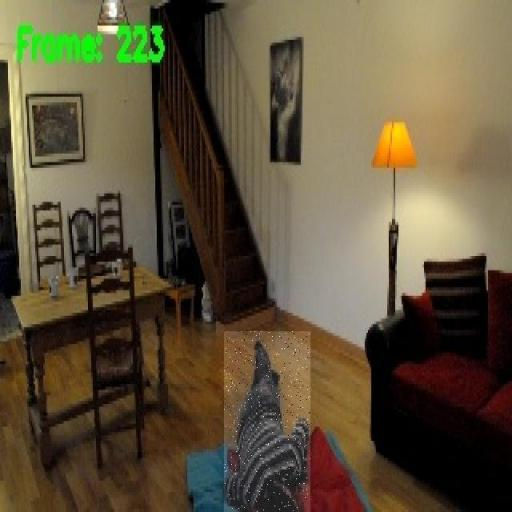Fall: (224, 331, 310, 512)
